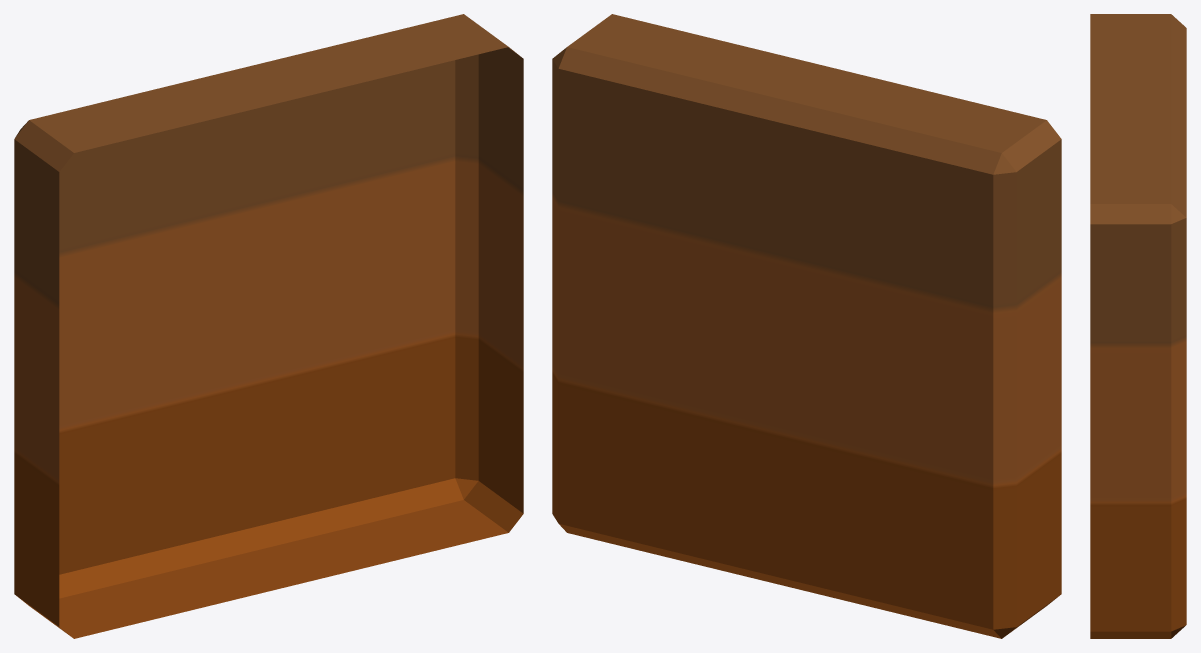
The model's file is Bridge 01.FBX.
The picture shows the model from 3 angles, left to right: view 1: azimuth 30°, elevation 25°; view 2: azimuth 150°, elevation 25°; view 3: azimuth 270°, elevation 25°; orthographic projection. The views are drawn at different scales.
Parts seen in each view (by area): view 1: Bridge 01; view 2: Bridge 01; view 3: Bridge 01.
Boxes of the visible parts, <box> form: Bridge 01: <box>14,14,523,638</box>; Bridge 01: <box>552,14,1061,638</box>; Bridge 01: <box>1090,14,1186,638</box>.
Bounding box in the file's own units: 100 × 100 × 20.
Materials: 1 (1 with a texture image).
